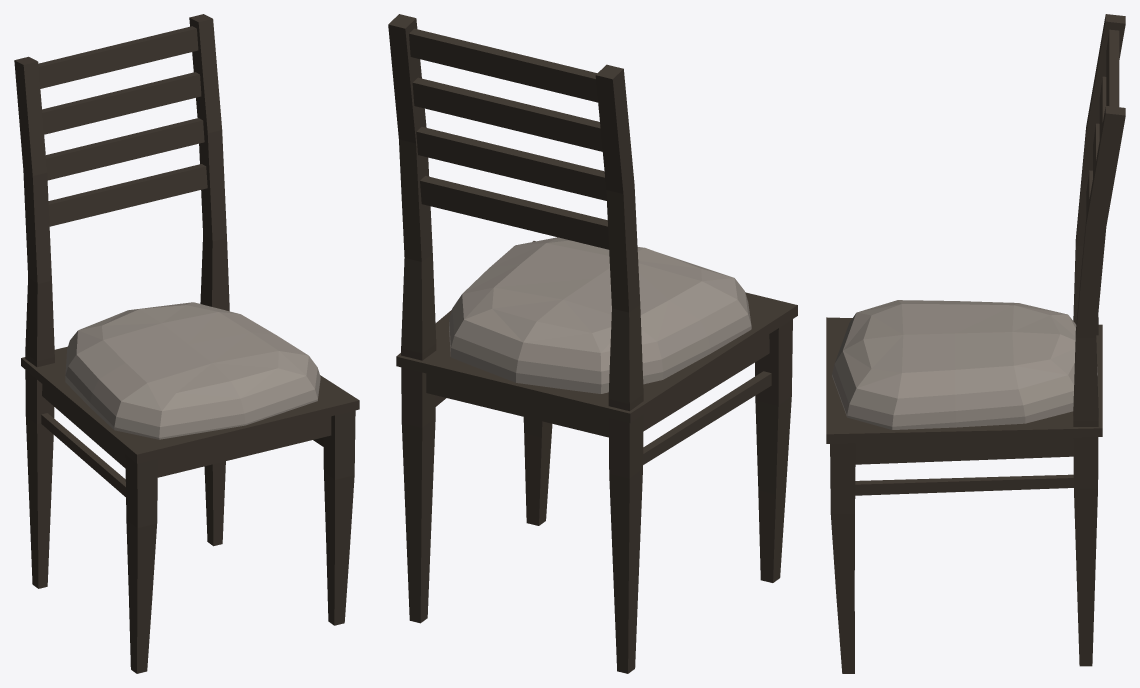
Rendered from waiting_chair.fbx.
3 renders of one model, left to right at view 1: azimuth 30°, elevation 25°; view 2: azimuth 150°, elevation 25°; view 3: azimuth 270°, elevation 25°, orthographic. The views are drawn at different scales.
Parts seen in each view (by area): view 1: waiting_chair_LOD0; view 2: waiting_chair_LOD0; view 3: waiting_chair_LOD0.
Part boxes in pixels (x1,y1,x2,y2): waiting_chair_LOD0: [14, 14, 359, 673]; waiting_chair_LOD0: [388, 14, 797, 673]; waiting_chair_LOD0: [826, 14, 1125, 673].
Size of what is drawn, in the model's own units: 0.4058 by 0.9 by 0.4397.
